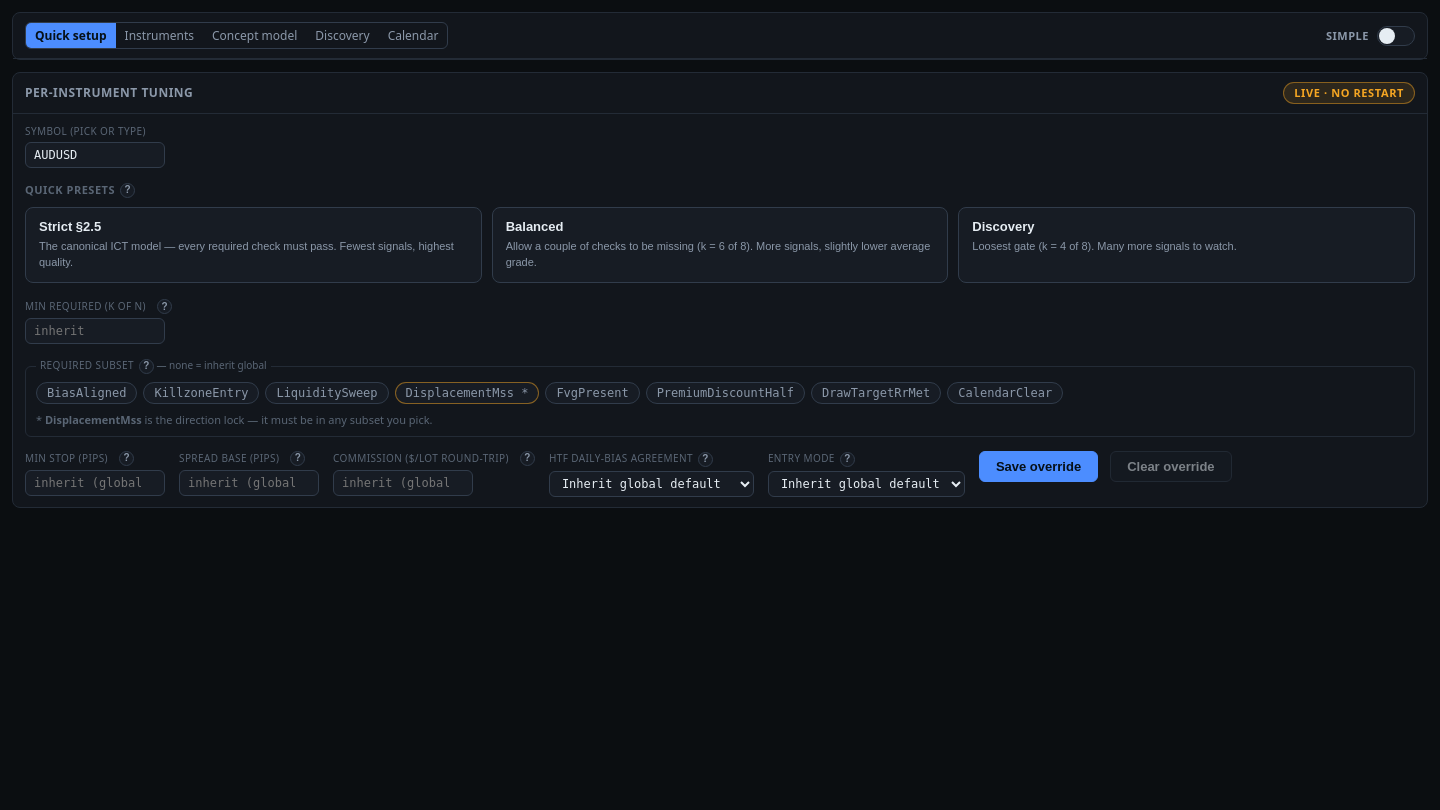
Scenario: SettingsPage › renders the per-instrument form (the default Quick-setup tab) and the overrides table on Instruments
The image size is (1440, 810).
Check: the form named "instrument override form" is shown, box left=25, top=299, right=1415, bottom=497
What coordinates should you click on to do the following:
click the tab "Instruments"
I would click on:
 (159, 36)
Its box is left=116, top=23, right=203, bottom=48.
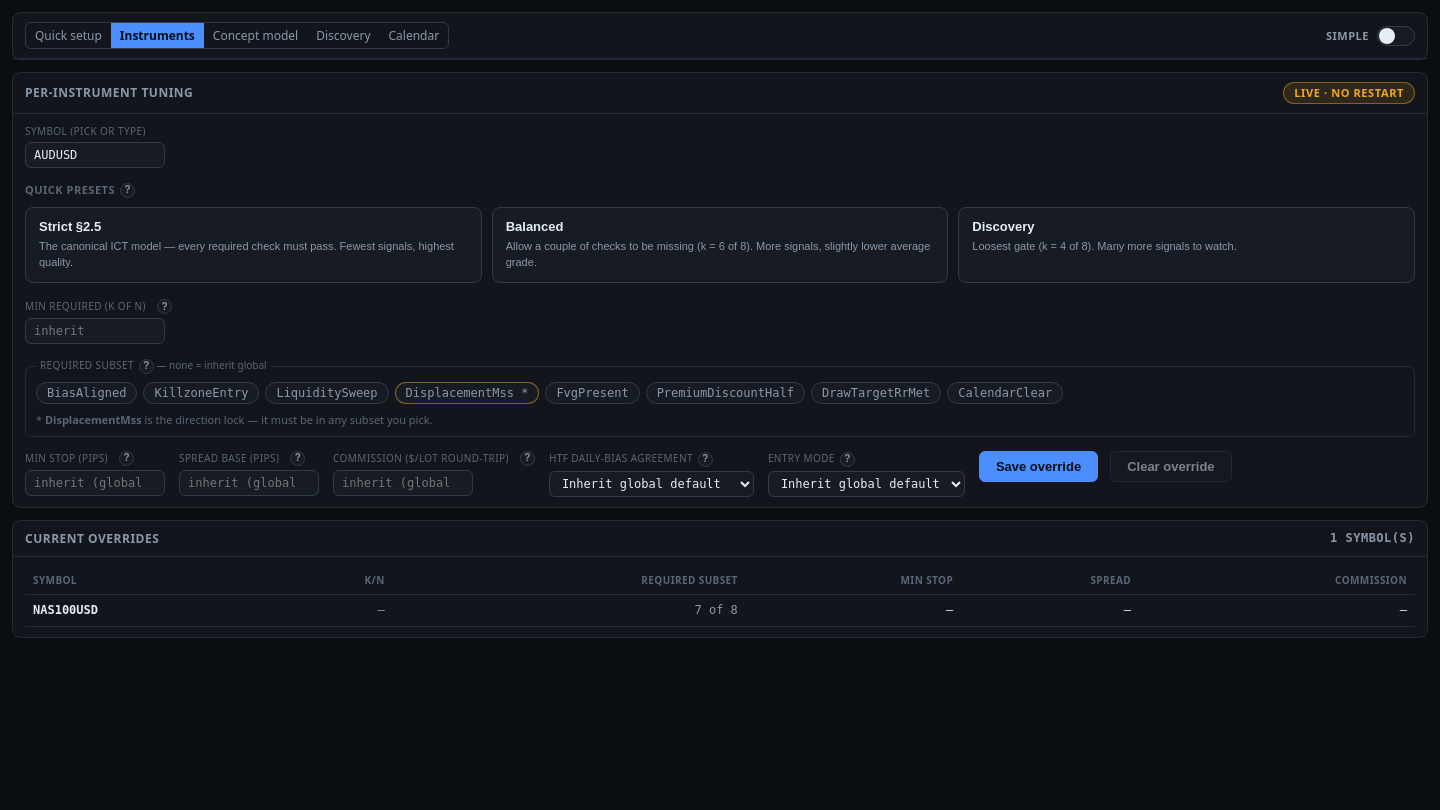
Check: the table named "current overrides" shows "NAS100USD", box left=33, top=603, right=98, bottom=617
Check: the table named "current overrides" shows "7 of 8", box left=694, top=603, right=738, bottom=617
